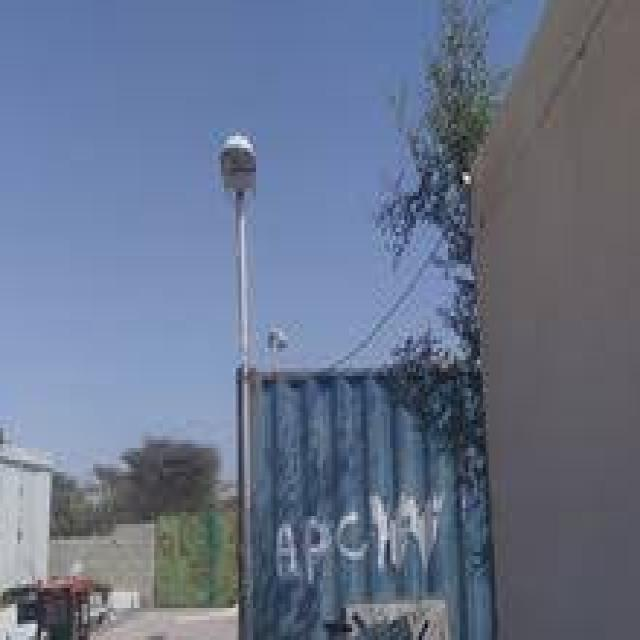Street Light: (218, 128, 262, 640)
